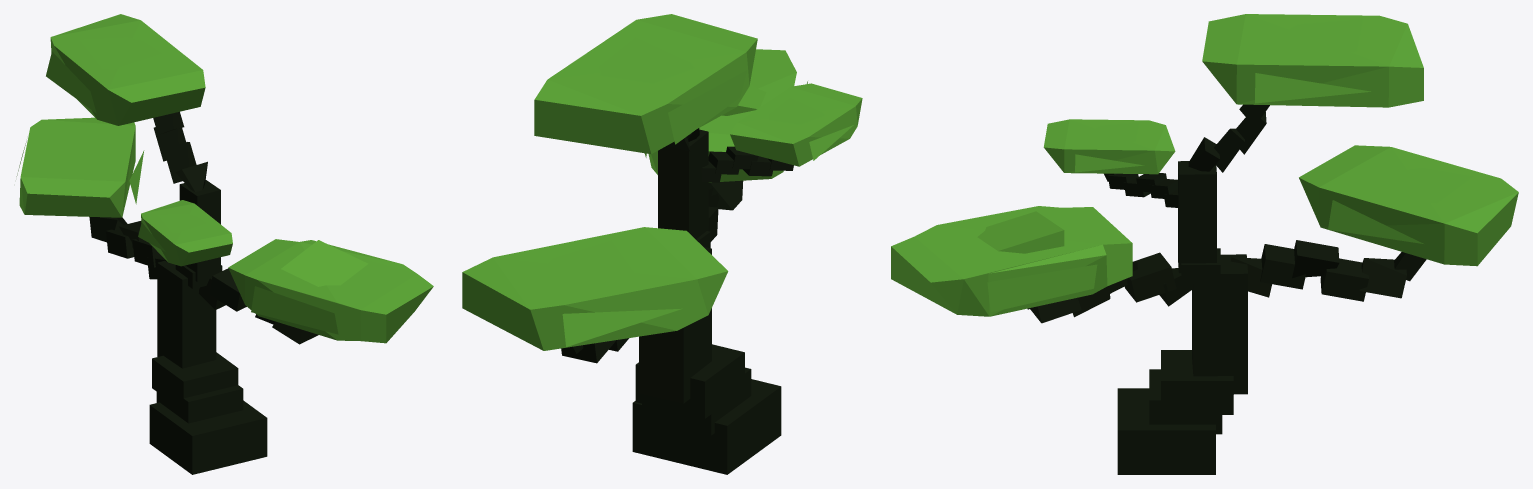
3 views of the same model, side by side, from view 1: azimuth 30°, elevation 25°; view 2: azimuth 150°, elevation 25°; view 3: azimuth 270°, elevation 25° (orthographic). The views are drawn at different scales.
Visible parts, largest first — view 1: 立方体.015, 立方体, 立方体.006, 立方体.002, 立方体.007, 立方体.029, 立方体.005, 立方体.009, 立方体.001, 立方体.010, 立方体.011; view 2: 立方体.002, 立方体.006, 立方体.015, 立方体.007, 立方体, 立方体.008, 立方体.005, 立方体.029; view 3: 立方体.015, 立方体, 立方体.006, 立方体.002, 立方体.029, 立方体.007, 立方体.005, 立方体.008, 立方体.009, 立方体.001.
Part boxes in pixels (x1=…): 立方体.015: x1=149, y1=180, x2=267, y2=474; 立方体: x1=228, y1=239, x2=433, y2=343; 立方体.006: x1=46, y1=14, x2=205, y2=125; 立方体.002: x1=16, y1=117, x2=144, y2=217; 立方体.007: x1=138, y1=200, x2=232, y2=266; 立方体.029: x1=89, y1=217, x2=166, y2=279; 立方体.005: x1=199, y1=268, x2=318, y2=344; 立方体.009: x1=164, y1=142, x2=196, y2=183; 立方体.001: x1=175, y1=161, x2=207, y2=191; 立方体.010: x1=153, y1=127, x2=185, y2=161; 立方体.011: x1=153, y1=111, x2=184, y2=134; 立方体.002: x1=462, y1=227, x2=728, y2=350; 立方体.006: x1=534, y1=14, x2=757, y2=154; 立方体.015: x1=632, y1=129, x2=781, y2=474; 立方体.007: x1=730, y1=83, x2=862, y2=166; 立方体: x1=644, y1=49, x2=807, y2=182; 立方体.008: x1=701, y1=146, x2=793, y2=182; 立方体.005: x1=708, y1=180, x2=743, y2=241; 立方体.029: x1=561, y1=338, x2=629, y2=363; 立方体.015: x1=1117, y1=161, x2=1247, y2=474; 立方体: x1=891, y1=206, x2=1132, y2=316; 立方体.006: x1=1202, y1=14, x2=1423, y2=107; 立方体.002: x1=1299, y1=145, x2=1518, y2=266; 立方体.029: x1=1230, y1=240, x2=1426, y2=301; 立方体.007: x1=1043, y1=119, x2=1175, y2=174; 立方体.005: x1=1027, y1=252, x2=1192, y2=323; 立方体.008: x1=1104, y1=173, x2=1178, y2=207; 立方体.009: x1=1214, y1=128, x2=1244, y2=172; 立方体.001: x1=1188, y1=137, x2=1219, y2=171.
Bounding box in the file's own units: 808 × 1247 × 1726.
